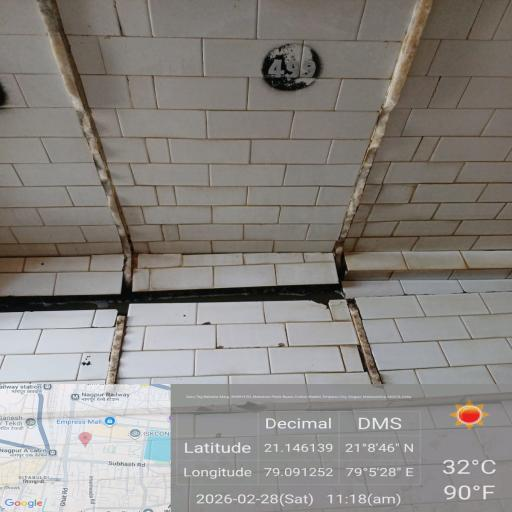clean_floor: (0, 8, 504, 234), (5, 295, 512, 380)
partial_dirty_floor: (0, 241, 512, 293)
